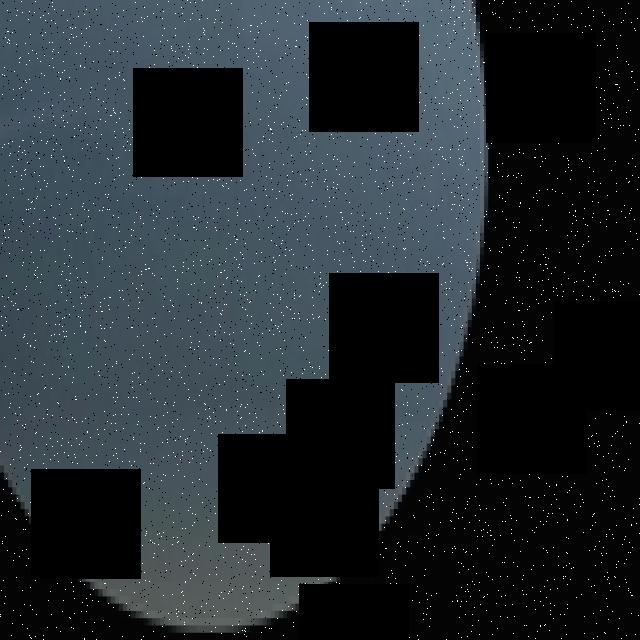Uranus: (0, 1, 493, 633)
